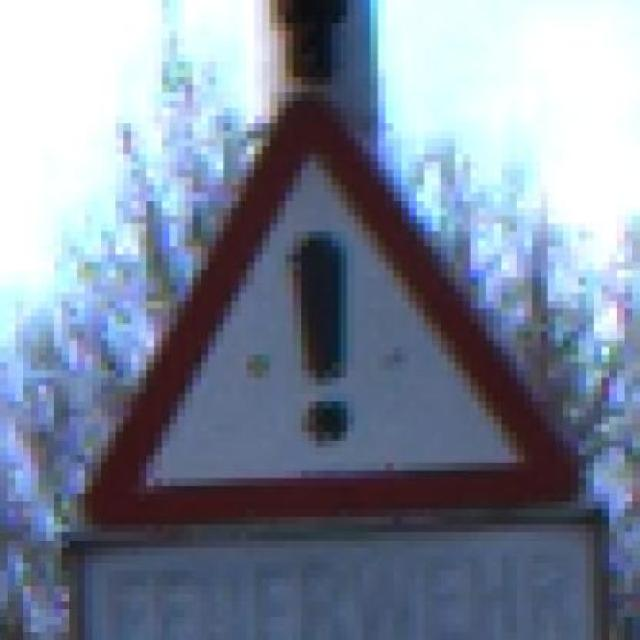Attention Please-: (31, 77, 594, 509)
